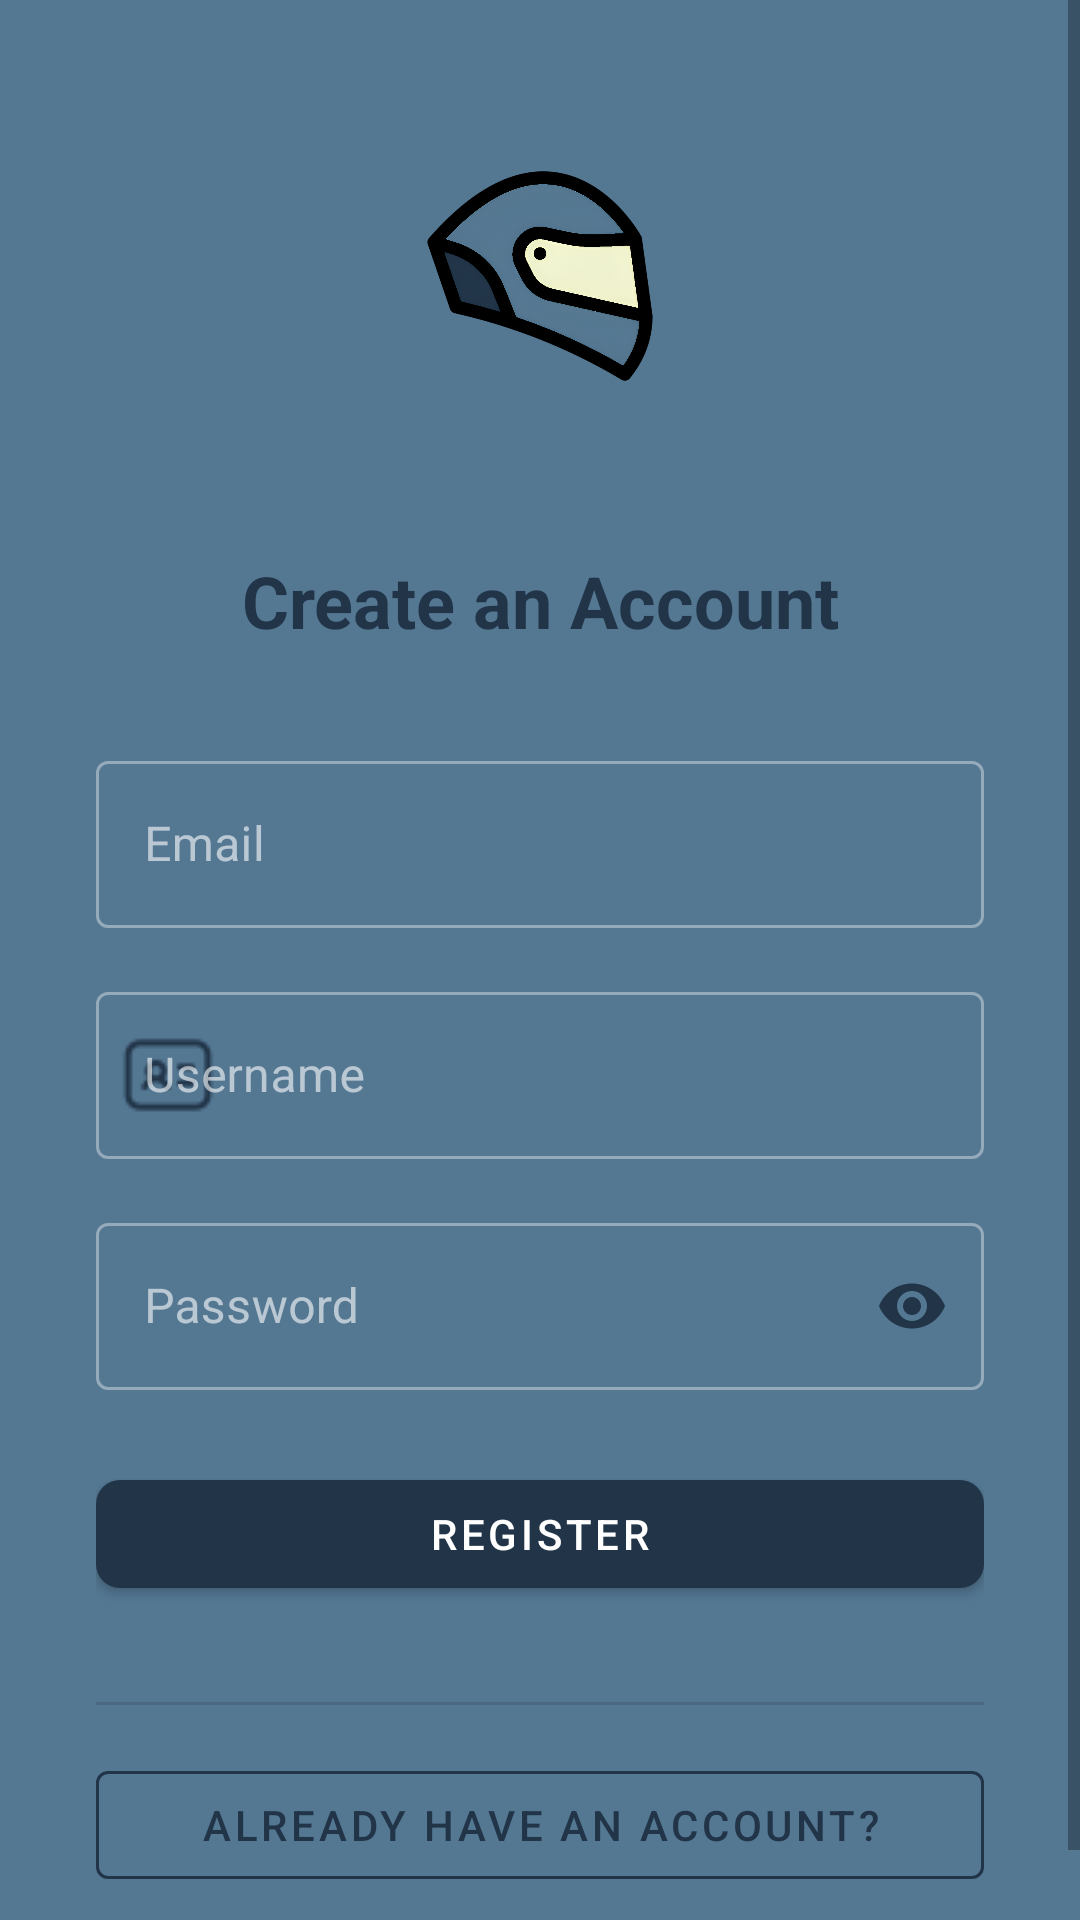

Locate icon controls on the screen. Image size 1080 x 1920, boxes as (x1, y1, x2, y2).
helmet: (427, 171, 653, 381)
